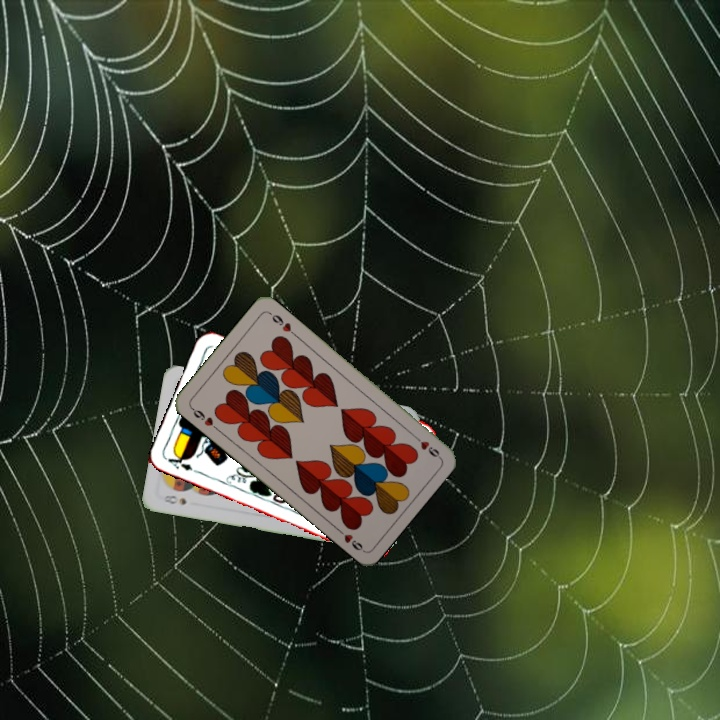EA: (163, 450, 202, 476)
H9: (409, 430, 443, 461), (187, 403, 221, 433)
S8: (160, 491, 189, 508)
